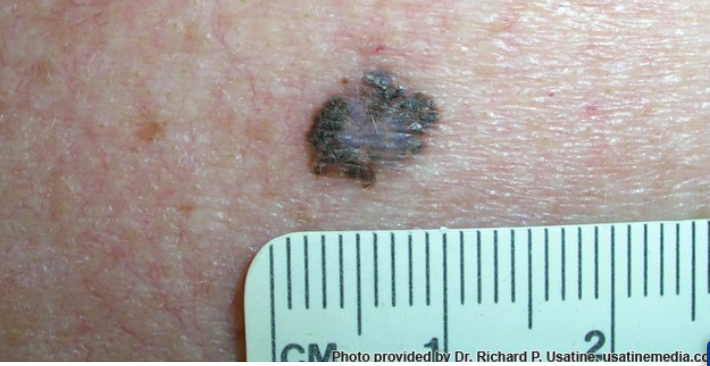Melanoma: (307, 75, 443, 188)
